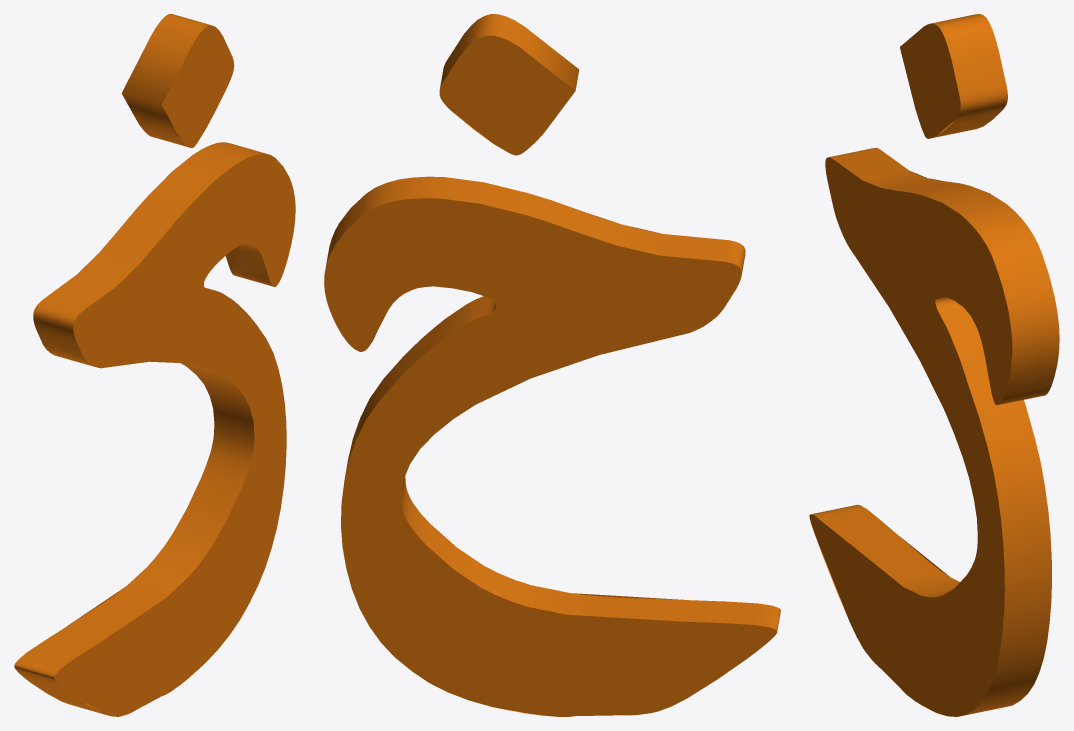
The model's file is kho.fbx.
The picture shows the model from 3 angles, left to right: view 1: azimuth 30°, elevation 25°; view 2: azimuth 150°, elevation 25°; view 3: azimuth 270°, elevation 25°; orthographic projection. The views are drawn at different scales.
Parts seen in each view (by area): view 1: hoo; view 2: hoo; view 3: hoo.
Boxes of the visible parts, left/top/right/bottom form: hoo: left=14, top=14, right=295, bottom=716; hoo: left=324, top=14, right=780, bottom=716; hoo: left=809, top=14, right=1059, bottom=716.
Bounding box in the file's own units: 92.66 × 161 × 52.5.
